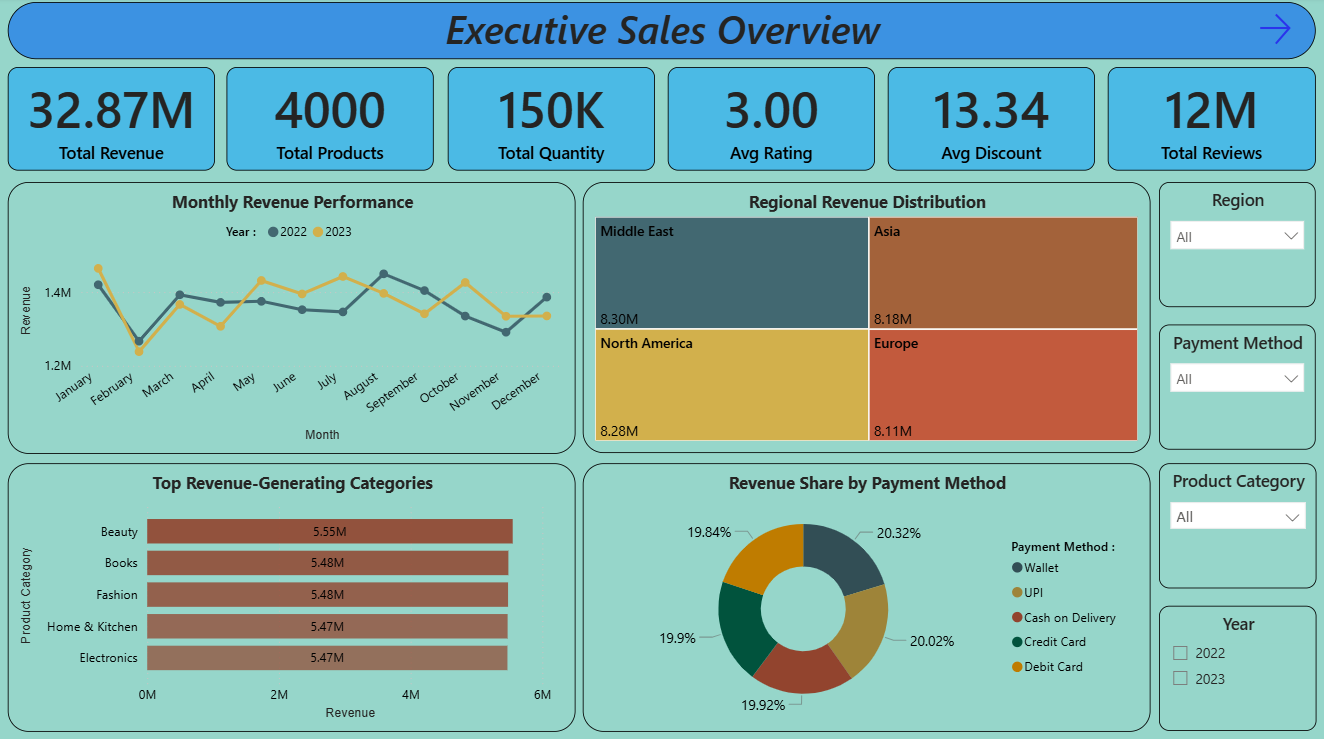

The page's visual inventory and layout, read from the dashboard file:
{"tool":"powerbi","page":{"name":"Executive Overview","canvas":[1280,720],"ordinal":0},"visuals":[{"type":"textbox","title":"Executive Sales Overview","box":[8.6,5,1262,55],"z":0},{"type":"card","fields":{"Values":["amazon_sales.Total Revenue"]},"box":[8.6,68,200,100.3],"z":1000},{"type":"card","fields":{"Values":["amazon_sales.Total Orders"]},"box":[220,68,200,100.3],"z":2000},{"type":"card","fields":{"Values":["amazon_sales.Total Quantity"]},"box":[433,68,200,100.3],"z":3000},{"type":"card","fields":{"Values":["amazon_sales.Avg Rating"]},"box":[646,68,200,100.3],"z":4000},{"type":"card","fields":{"Values":["amazon_sales.Avg Discount"]},"box":[858,68,200,100.3],"z":5000},{"type":"card","fields":{"Values":["amazon_sales.Total Reviews"]},"box":[1070,68,200.5,100.3],"z":6000},{"type":"lineChart","title":"Monthly Revenue Performance","fields":{"Category":["amazon_sales.month"],"Y":["Sum(amazon_sales.total_revenue)"],"Series":["amazon_sales.year"]},"box":[8.6,178,548,262],"z":7000},{"type":"clusteredBarChart","title":"Top Revenue-Generating Categories","fields":{"Y":["Sum(amazon_sales.total_revenue)"],"Category":["amazon_sales.product_category"]},"box":[8.4,450,548,259.4],"z":8000},{"type":"treemap","title":"Regional Revenue Distribution","fields":{"Group":["amazon_sales.customer_region"],"Values":["Sum(amazon_sales.total_revenue)"]},"box":[563,178.6,547.7,261.8],"z":9000},{"type":"donutChart","title":"Revenue Share by Payment Method","fields":{"Category":["amazon_sales.payment_method"],"Y":["Sum(amazon_sales.total_revenue)"]},"box":[563,450,547.7,259.4],"z":10000},{"type":"slicer","title":"Region","fields":{"Values":["amazon_sales.customer_region"]},"box":[1119.6,178.6,150.8,120.6],"z":11000},{"type":"slicer","title":"Payment Method","fields":{"Values":["amazon_sales.payment_method"]},"box":[1119.6,316.1,150.8,120.6],"z":12000},{"type":"slicer","title":"Product Category","fields":{"Values":["amazon_sales.product_category"]},"box":[1119.6,450,152,120.6],"z":13000},{"type":"slicer","title":"Year","fields":{"Values":["amazon_sales.year"]},"box":[1119.6,587.5,152,120.6],"z":14000},{"type":"actionButton","box":[1211.1,11.1,40.1,40.1],"z":15000}]}

Visuals, with their boxes in screenshot pixels (x1, y1, x2, y2), scaled from the page's 1280x720 canvas onto the 1324x739 screenshot:
"Executive Sales Overview" textbox: box=[9, 5, 1314, 62]
card - amazon_sales.Total Revenue: box=[9, 70, 216, 173]
card - amazon_sales.Total Orders: box=[228, 70, 434, 173]
card - amazon_sales.Total Quantity: box=[448, 70, 655, 173]
card - amazon_sales.Avg Rating: box=[668, 70, 875, 173]
card - amazon_sales.Avg Discount: box=[887, 70, 1094, 173]
card - amazon_sales.Total Reviews: box=[1107, 70, 1314, 173]
"Monthly Revenue Performance" lineChart: box=[9, 183, 576, 452]
"Top Revenue-Generating Categories" clusteredBarChart: box=[9, 462, 576, 728]
"Regional Revenue Distribution" treemap: box=[582, 183, 1149, 452]
"Revenue Share by Payment Method" donutChart: box=[582, 462, 1149, 728]
"Region" slicer: box=[1158, 183, 1314, 307]
"Payment Method" slicer: box=[1158, 324, 1314, 448]
"Product Category" slicer: box=[1158, 462, 1315, 586]
"Year" slicer: box=[1158, 603, 1315, 727]
actionButton: box=[1253, 11, 1294, 53]
